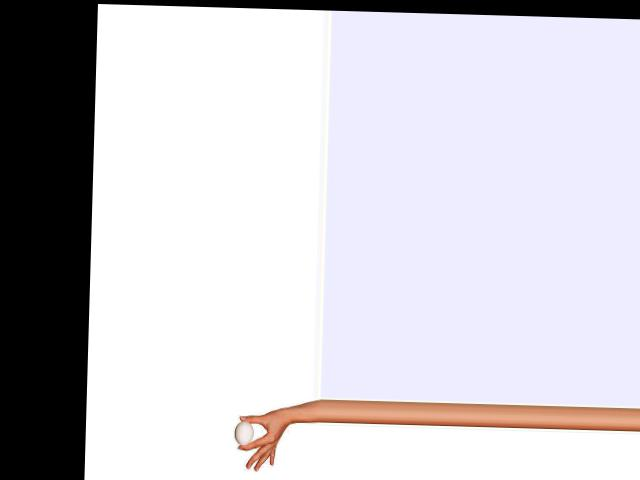egg: (233, 420, 253, 445)
